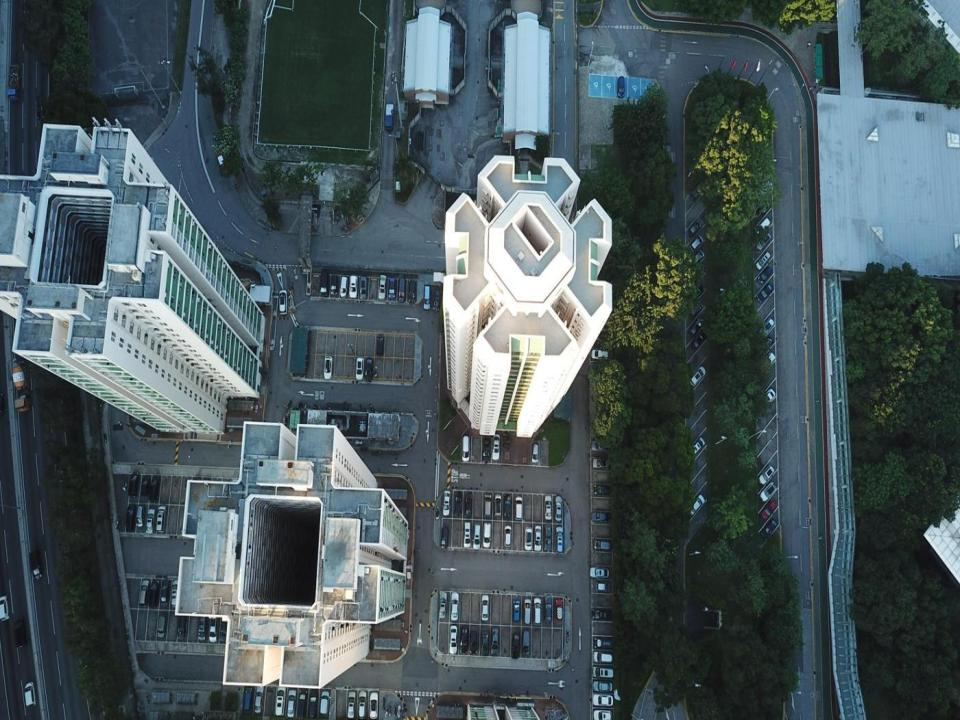car: (15, 618, 28, 647), (687, 438, 705, 458), (23, 683, 37, 708), (756, 284, 774, 303), (758, 465, 775, 485), (688, 367, 705, 386), (690, 494, 705, 515), (590, 439, 614, 452), (762, 352, 775, 376), (760, 482, 776, 501), (756, 232, 772, 251), (139, 579, 150, 606), (286, 689, 297, 716), (216, 151, 228, 175), (254, 684, 264, 712), (347, 690, 357, 718), (459, 624, 469, 652), (762, 520, 776, 540), (693, 330, 707, 350), (149, 477, 160, 502), (308, 688, 317, 718), (594, 636, 613, 650), (126, 502, 135, 531), (449, 625, 458, 654), (145, 509, 155, 535), (160, 578, 170, 604), (369, 692, 379, 718), (758, 267, 774, 283), (689, 317, 704, 334), (298, 690, 307, 718), (358, 691, 367, 719), (450, 592, 459, 620), (591, 608, 612, 620), (592, 694, 613, 706), (760, 319, 774, 337), (0, 596, 10, 621), (762, 500, 775, 519), (762, 389, 775, 408), (438, 591, 447, 618), (278, 291, 288, 315), (589, 566, 609, 578), (593, 680, 613, 692), (481, 595, 490, 621), (442, 491, 451, 517), (761, 335, 774, 353), (543, 524, 551, 553), (591, 510, 610, 522), (482, 523, 491, 548), (492, 433, 500, 461), (355, 356, 364, 380), (482, 439, 490, 466), (469, 630, 478, 654), (544, 597, 552, 624), (534, 525, 542, 552), (689, 301, 703, 316), (592, 459, 611, 470), (378, 274, 386, 300), (464, 492, 472, 518), (689, 220, 702, 236), (360, 275, 368, 300), (472, 524, 480, 549), (503, 494, 511, 519), (512, 632, 519, 660), (690, 286, 705, 299), (324, 356, 332, 380), (481, 631, 489, 655), (503, 524, 511, 548), (544, 496, 552, 520), (692, 250, 704, 266), (555, 495, 562, 522), (349, 274, 357, 297), (491, 629, 498, 655), (555, 598, 563, 620), (525, 526, 532, 551), (141, 476, 150, 495), (388, 278, 396, 299), (513, 598, 520, 622), (455, 492, 462, 516), (594, 710, 612, 719), (366, 358, 373, 381), (441, 526, 448, 548), (434, 288, 440, 310), (594, 486, 610, 494), (594, 583, 610, 591)
truck: (12, 358, 28, 412), (7, 64, 18, 100), (386, 103, 393, 132)
van: (29, 551, 42, 578), (156, 505, 167, 533), (593, 665, 615, 679), (592, 651, 613, 664), (276, 686, 285, 716), (149, 578, 158, 607), (755, 252, 771, 268), (757, 217, 771, 235), (177, 615, 187, 640), (593, 538, 612, 551), (533, 598, 542, 625), (244, 685, 252, 714), (320, 271, 329, 296), (129, 472, 138, 497), (198, 616, 207, 641), (522, 630, 530, 657), (462, 522, 471, 546), (556, 526, 564, 553), (208, 616, 216, 642), (462, 435, 470, 461), (690, 234, 703, 250), (524, 597, 531, 626), (135, 506, 145, 526), (408, 278, 416, 303), (157, 616, 166, 638), (320, 692, 329, 714), (484, 493, 492, 516), (220, 620, 228, 642), (376, 334, 384, 356), (515, 495, 522, 520), (591, 348, 608, 358), (172, 579, 178, 607), (330, 275, 338, 295), (617, 77, 625, 97), (340, 277, 348, 296), (424, 285, 430, 310), (494, 494, 501, 515), (398, 278, 404, 302), (532, 443, 538, 462)
